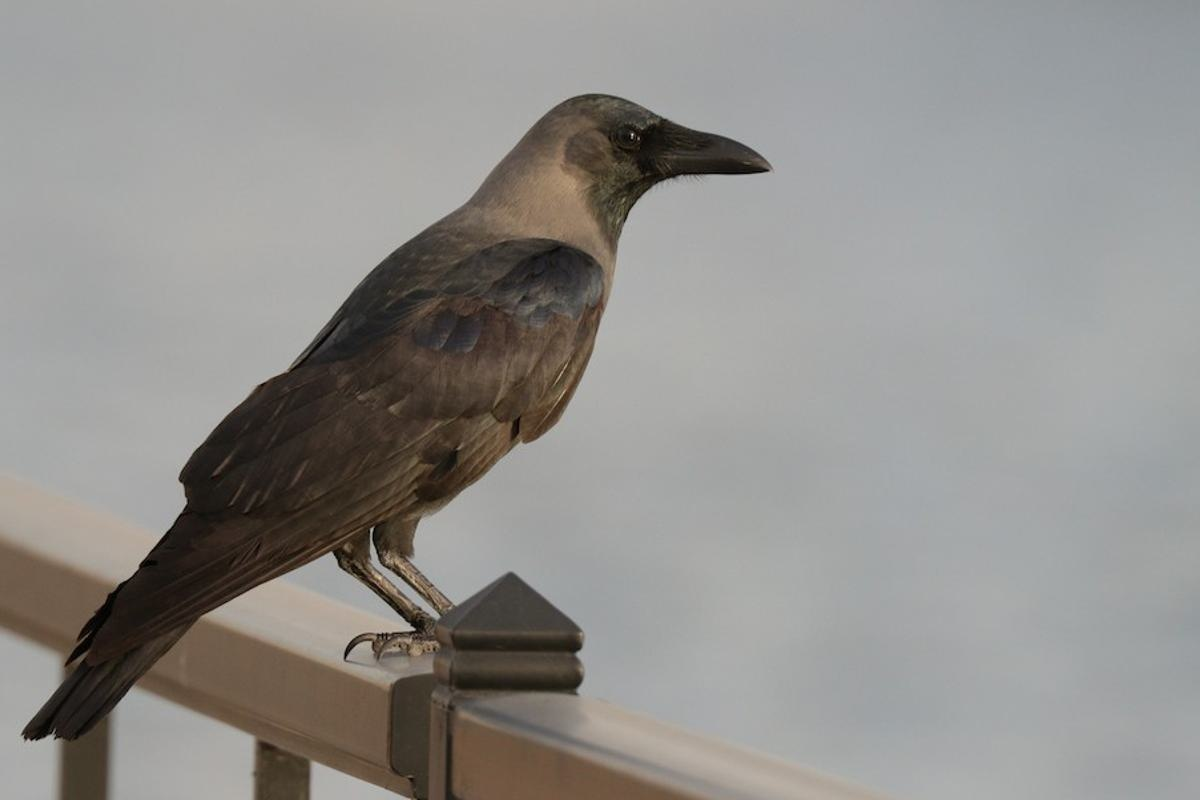crow: (43, 66, 791, 739)
